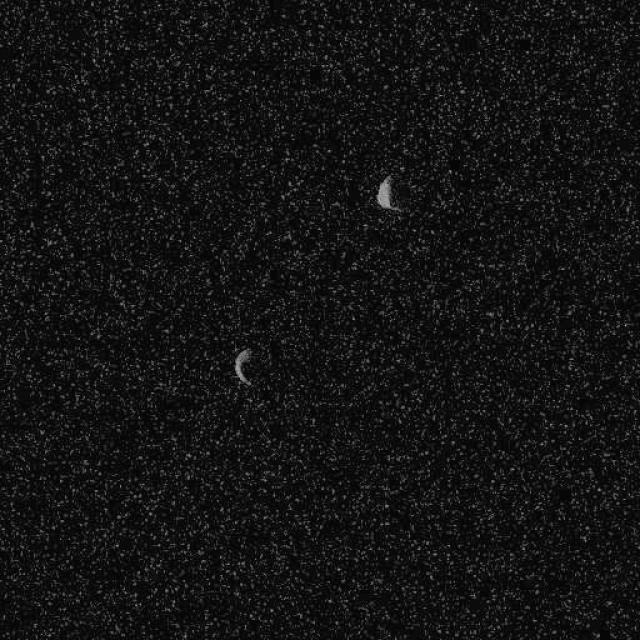D2: (373, 172, 402, 212), (232, 346, 254, 385)
